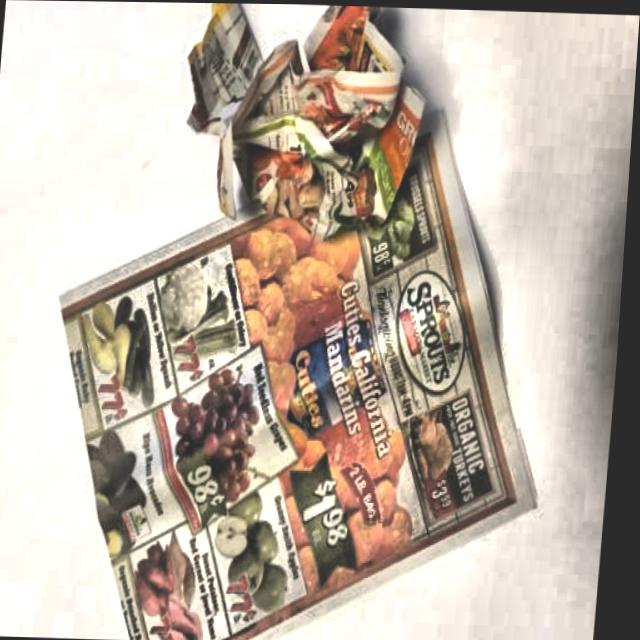Paper: (17, 1, 587, 640)
